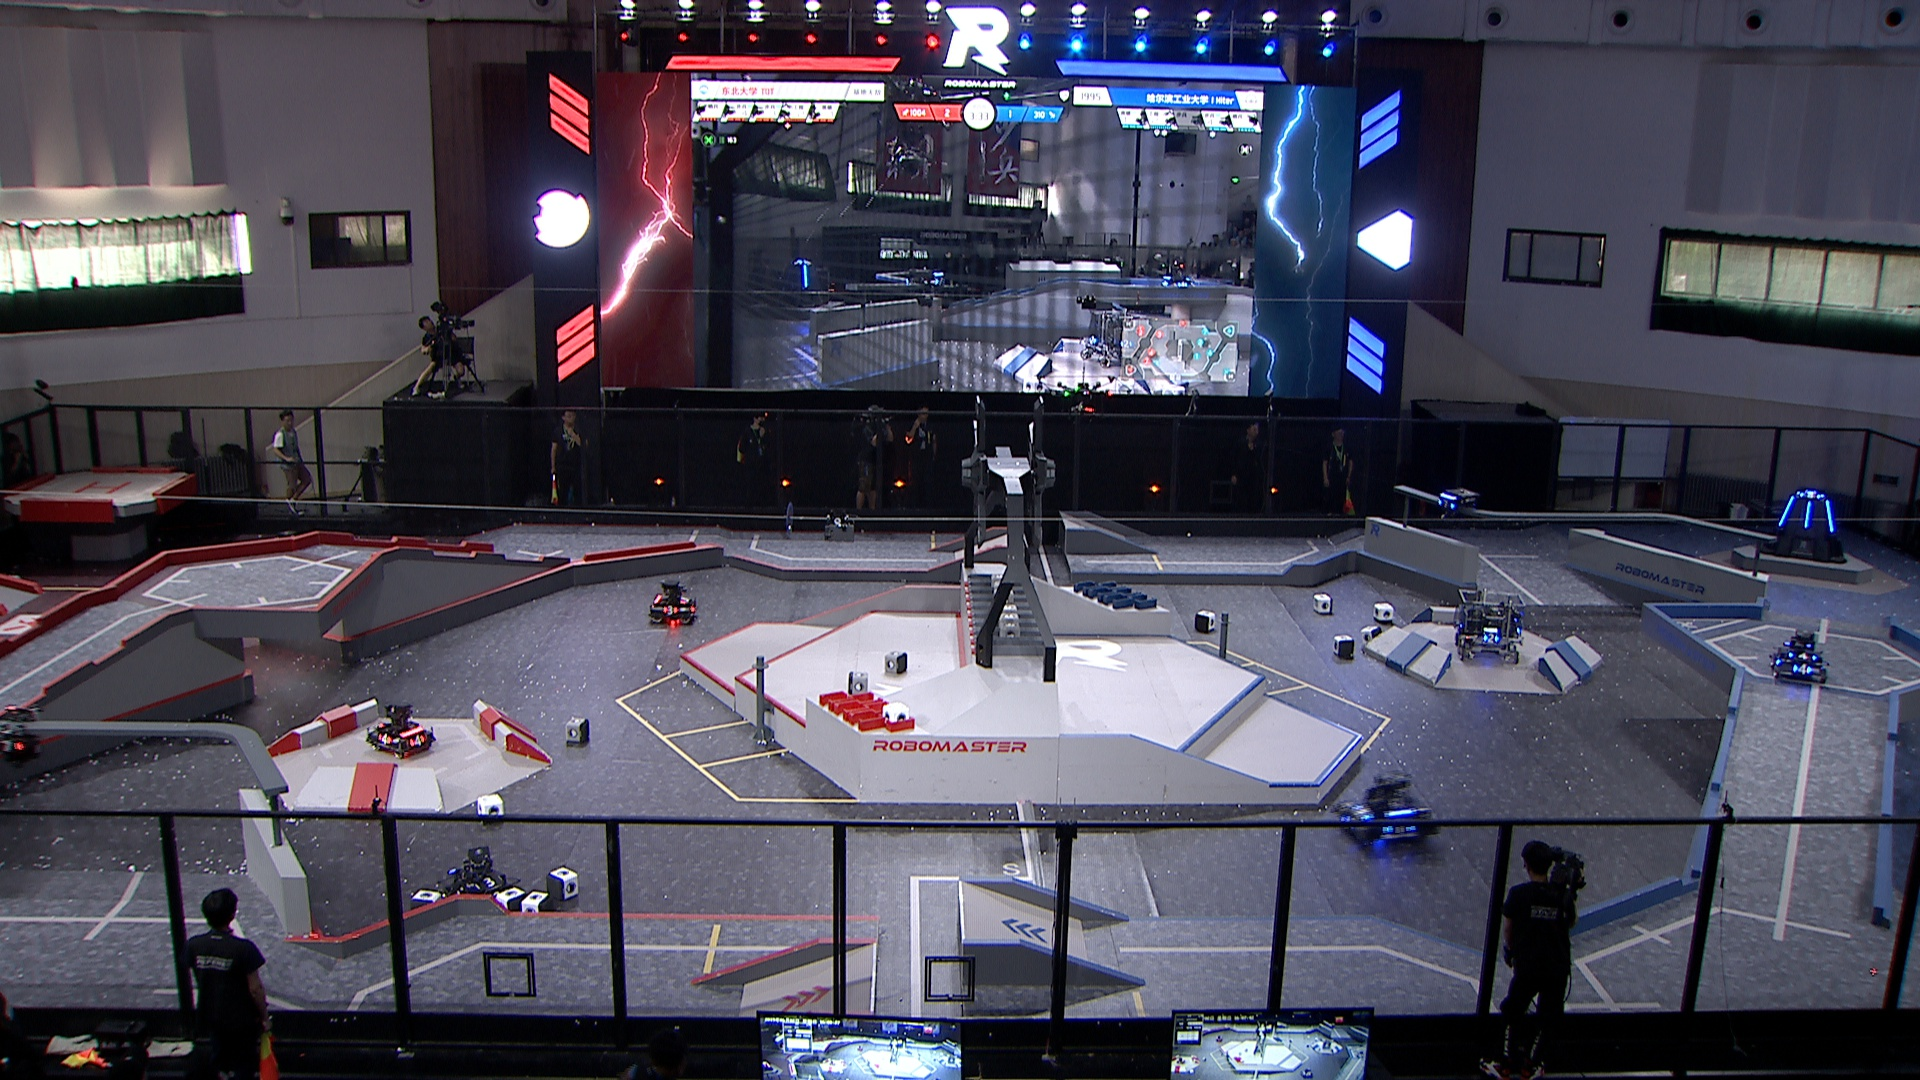armor: (1775, 495, 1797, 526), (1822, 500, 1840, 533), (1335, 811, 1357, 833), (1353, 804, 1377, 825), (0, 738, 25, 756), (476, 874, 502, 889), (1390, 822, 1415, 836), (1437, 495, 1456, 512), (1789, 647, 1816, 659), (1793, 661, 1815, 675), (376, 731, 394, 746), (1803, 501, 1813, 527), (1482, 632, 1499, 646), (409, 735, 429, 746), (661, 605, 679, 617), (1799, 491, 1820, 500), (679, 593, 690, 605)
base: (1756, 476, 1854, 564)
car: (1331, 769, 1436, 853), (1449, 588, 1532, 666), (440, 847, 513, 913), (365, 698, 438, 760), (1766, 626, 1836, 684), (647, 575, 700, 629)
ignore: (1081, 306, 1133, 371), (775, 256, 836, 310), (1158, 264, 1196, 286)
watcher: (1433, 487, 1487, 534)
